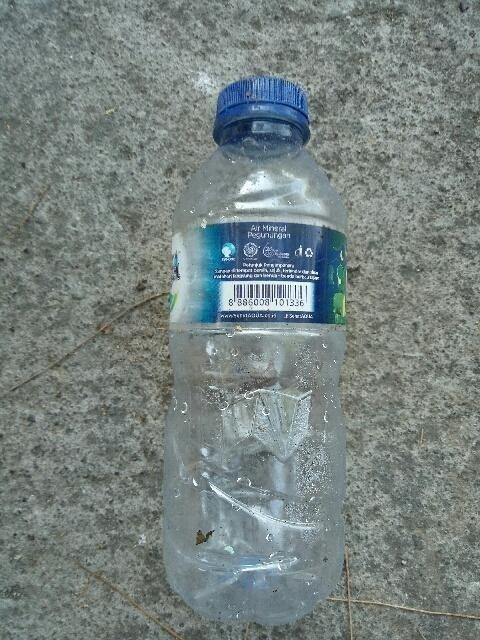bottle-plastic: (153, 72, 354, 632)
